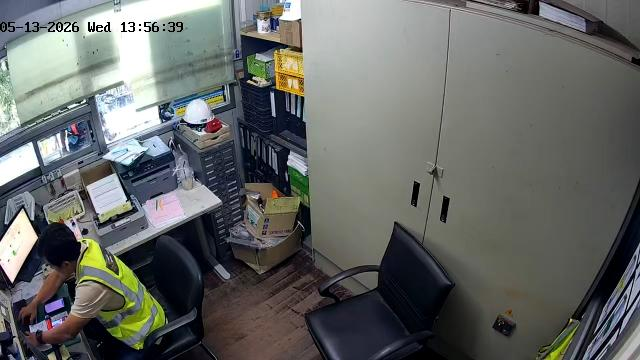Head: (38, 223, 81, 275)
People: (20, 224, 165, 359)
Phone: (44, 298, 64, 313), (52, 317, 66, 327)
